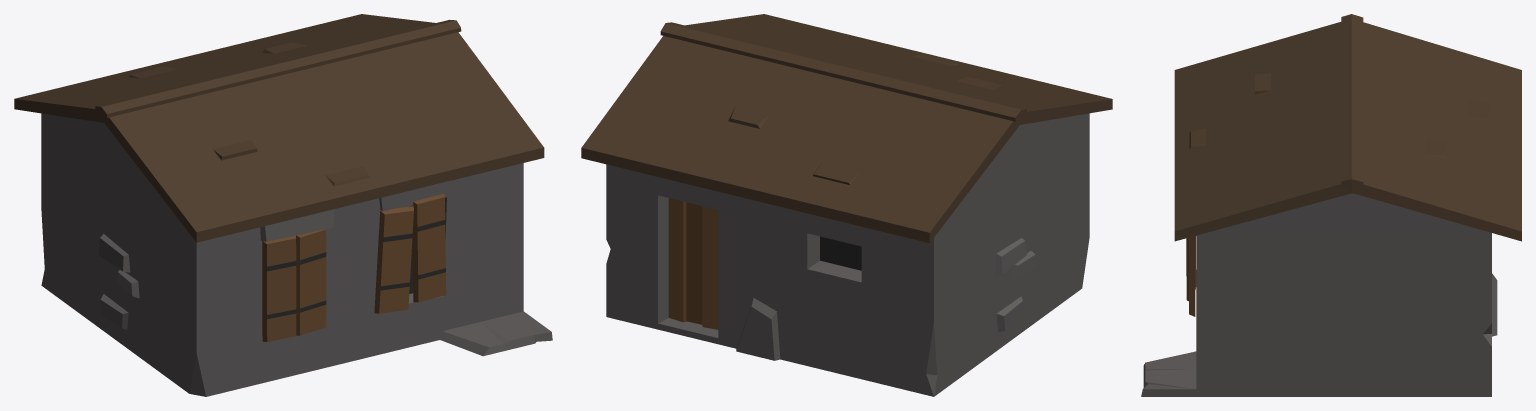
Rendered from pirates_house-pirate-new-small.fbx.
3 renders of one model, left to right at view 1: azimuth 30°, elevation 25°; view 2: azimuth 150°, elevation 25°; view 3: azimuth 270°, elevation 25°, orthographic. The views are drawn at different scales.
Visible parts, largest first — view 1: pirates_house_pirate_new_small; view 2: pirates_house_pirate_new_small; view 3: pirates_house_pirate_new_small.
Part boxes in pixels (left/top/right/bottom): pirates_house_pirate_new_small: left=14, top=14, right=552, bottom=396; pirates_house_pirate_new_small: left=581, top=14, right=1112, bottom=396; pirates_house_pirate_new_small: left=1141, top=14, right=1521, bottom=396.
Bounding box in the file's own units: 200 × 127 × 195.
